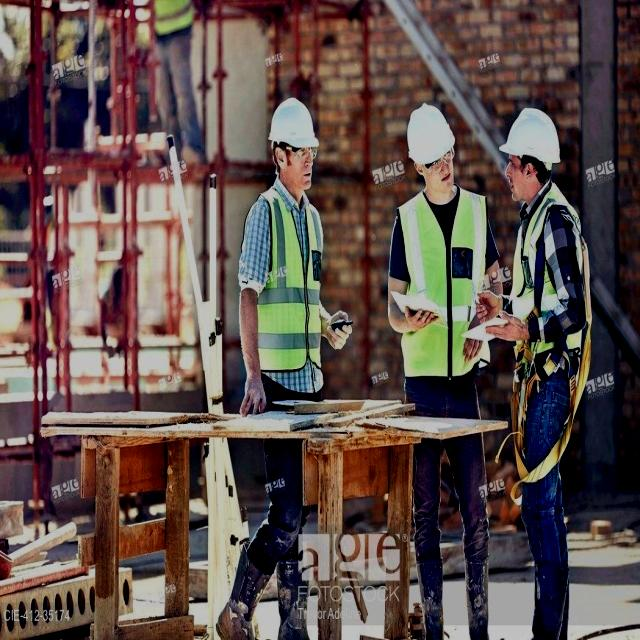goggles: (272, 140, 326, 166), (416, 142, 460, 173)
helmet: (501, 108, 565, 163), (405, 100, 455, 170), (266, 95, 320, 154)
vest: (396, 192, 491, 386), (251, 188, 325, 384), (516, 188, 566, 342)
